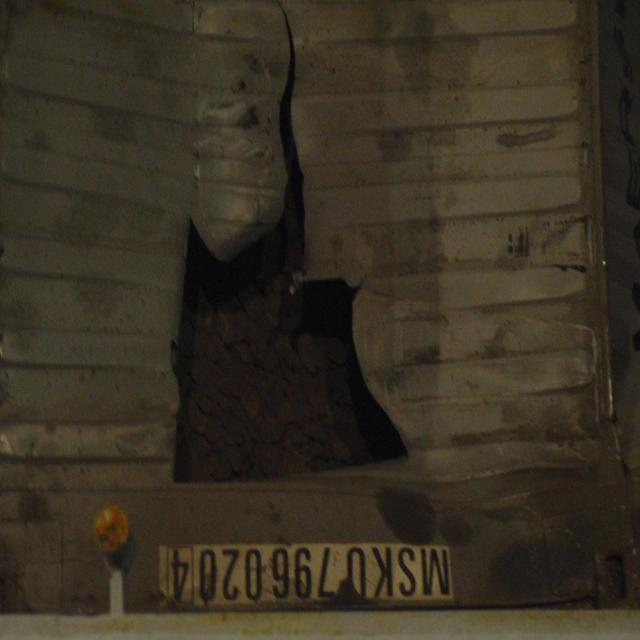hole: (167, 212, 416, 484)
